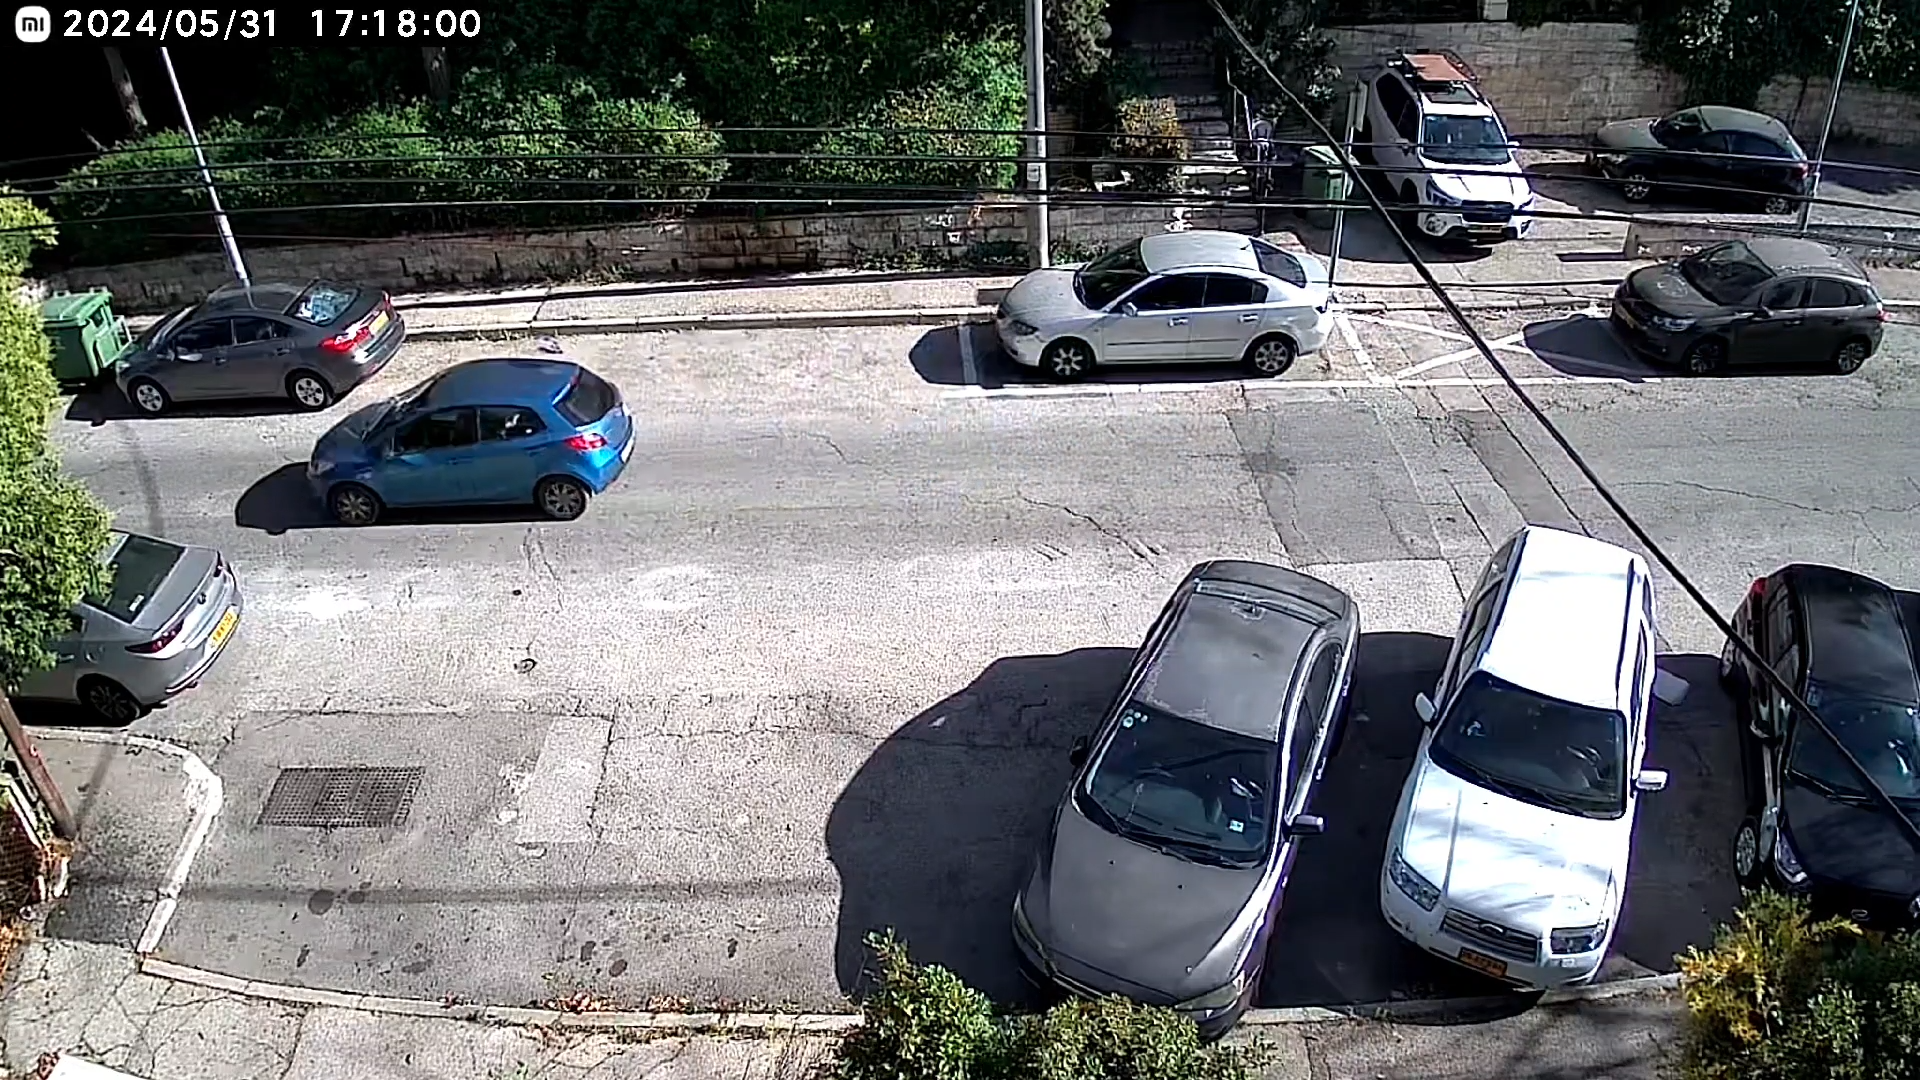moving car: (1331, 700, 1807, 889)
